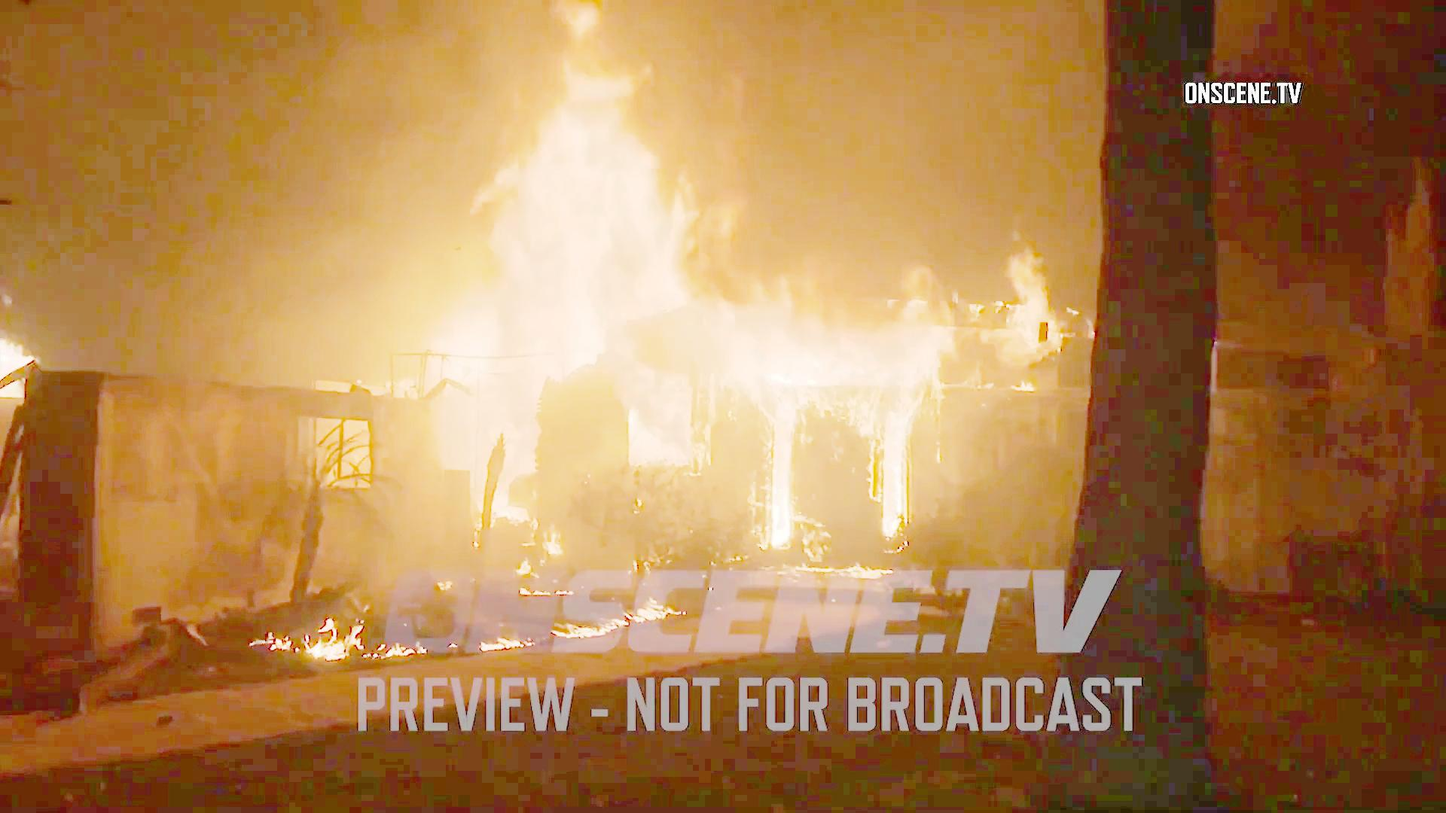fire: (443, 0, 909, 544)
